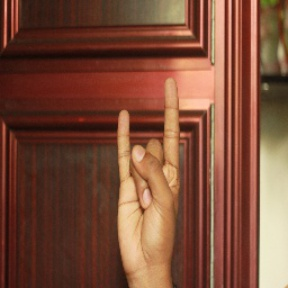V: (111, 74, 186, 268)
